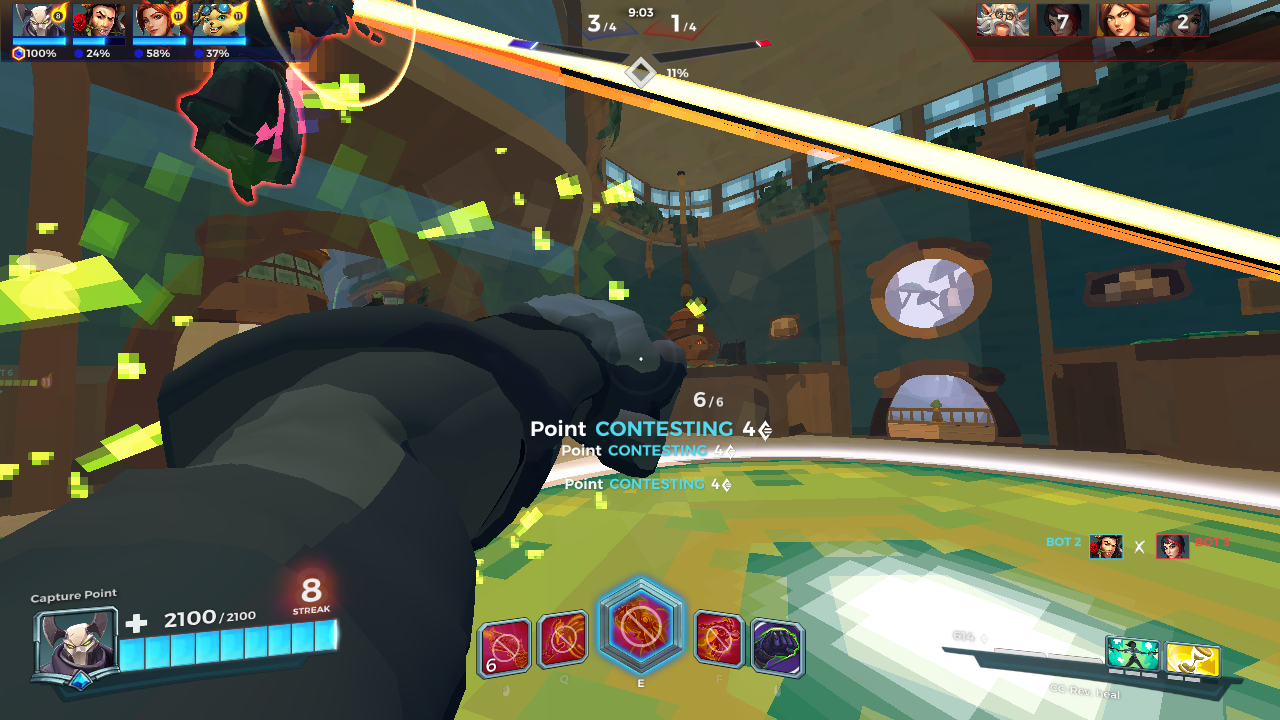model: (180, 65, 336, 194)
